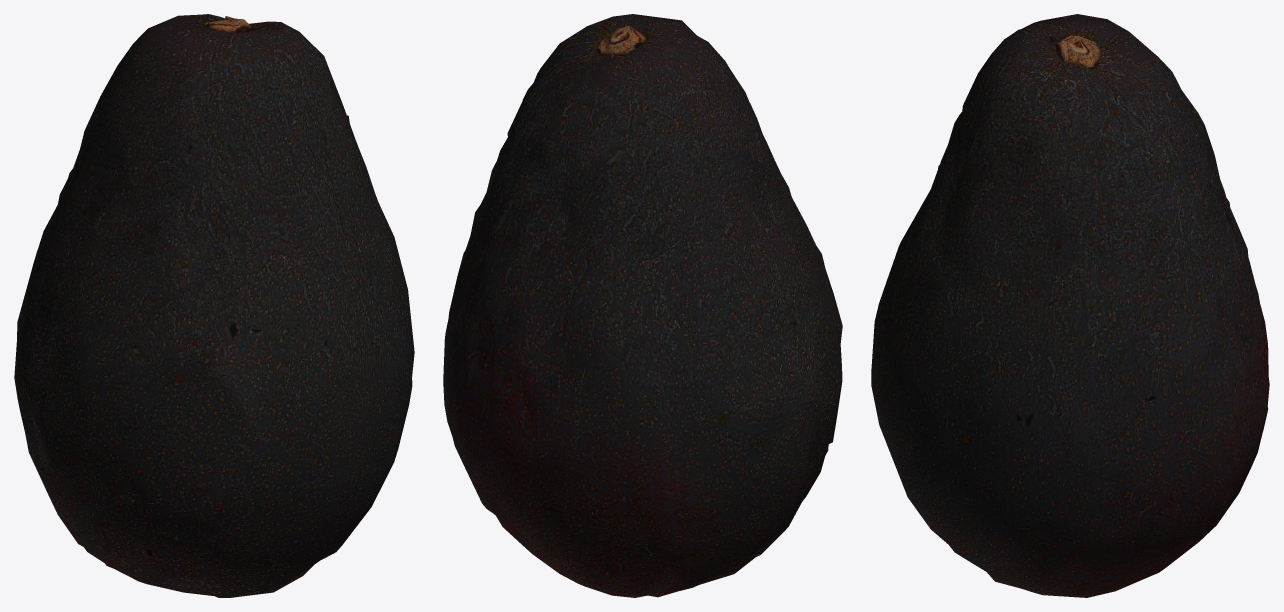
Rendered from prod_avocado.glb.
The picture shows the model from 3 angles, left to right: view 1: azimuth 30°, elevation 25°; view 2: azimuth 150°, elevation 25°; view 3: azimuth 270°, elevation 25°; orthographic projection. The views are drawn at different scales.
Visible parts, largest first — view 1: food_avocado_01; view 2: food_avocado_01; view 3: food_avocado_01.
Boxes of the visible parts, x1=… form: food_avocado_01: x1=14, y1=14, x2=414, y2=597; food_avocado_01: x1=443, y1=14, x2=842, y2=597; food_avocado_01: x1=871, y1=14, x2=1269, y2=597.
Bounding box in the file's own units: 0.0951 × 0.1431 × 0.0946.
Materials: 1 (1 with a texture image).
